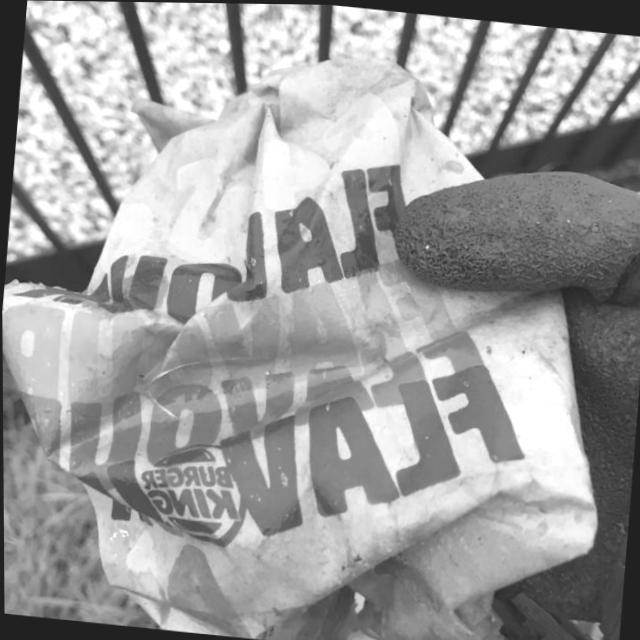Paper: (0, 18, 640, 640)
